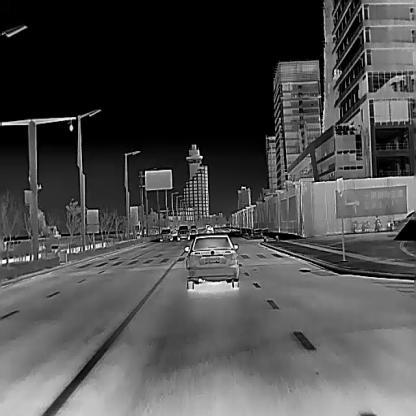car: (184, 235, 239, 288), (177, 225, 189, 240), (159, 229, 172, 241), (206, 226, 213, 233)
